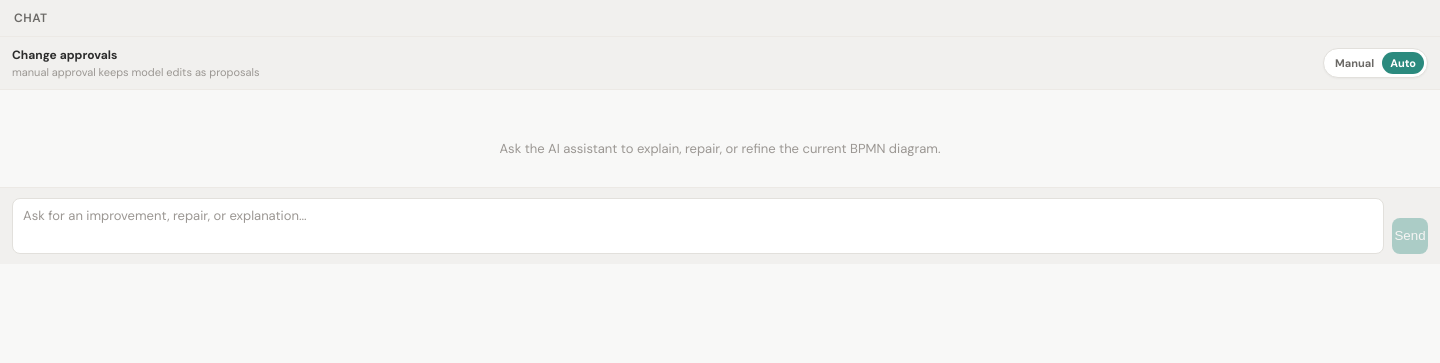
shows a failed document update instead of reporting a successful chat turn
Type "Update the diagram" into the text box at x=698, y=226, box x1=12 y1=198 x2=1384 y2=254
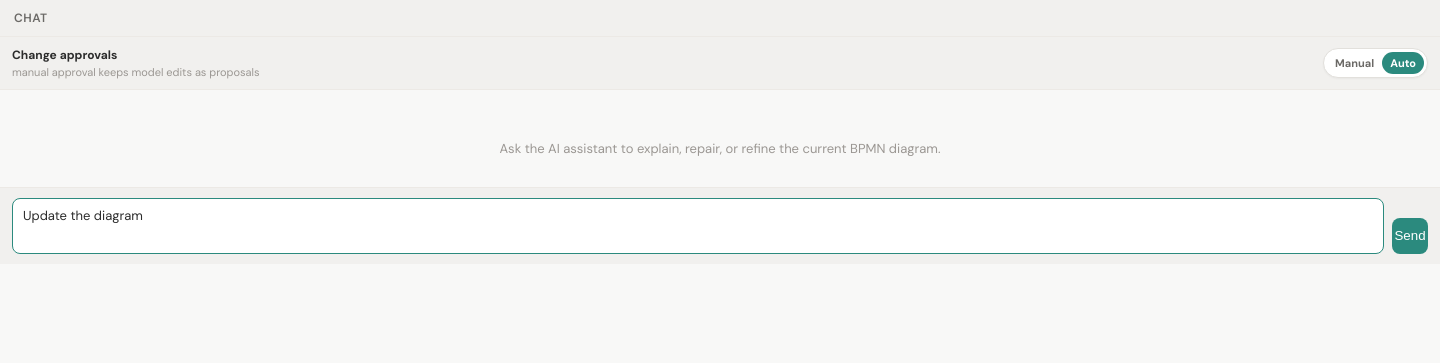
Click the button titled "Send message" at x=1410, y=236, box x1=1392 y1=218 x2=1428 y2=254
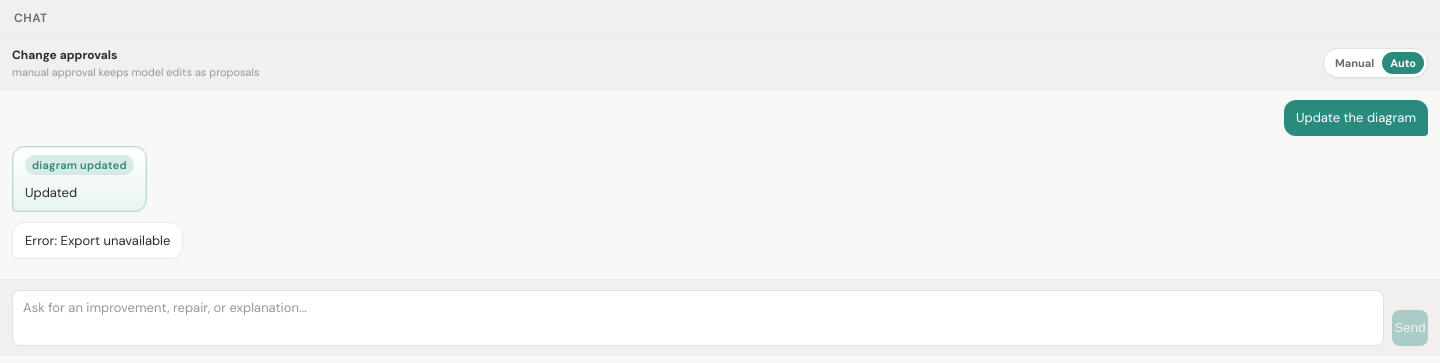
Now the text "Error: Export unavailable" is shown, box x1=25 y1=230 x2=170 y2=250
